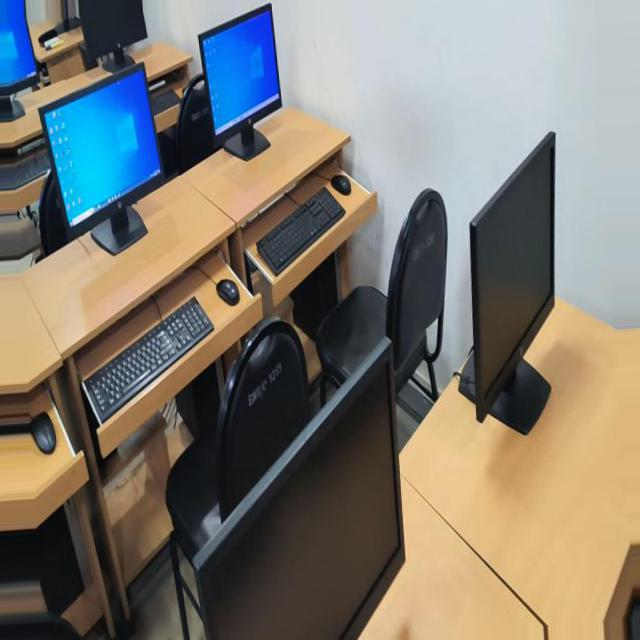Chair: (143, 315, 303, 562), (314, 199, 463, 409), (177, 68, 220, 164), (24, 152, 55, 236)
Cpu: (159, 338, 229, 428), (0, 485, 48, 592), (289, 255, 344, 340)
Keyboard: (61, 288, 205, 407), (257, 190, 353, 274), (151, 76, 184, 105)
Monitor: (166, 343, 397, 639), (464, 151, 585, 449), (32, 52, 162, 241), (208, 4, 293, 156), (81, 0, 153, 45), (0, 0, 34, 74)
Mouse: (0, 391, 28, 433), (211, 273, 235, 299), (341, 178, 362, 199)
